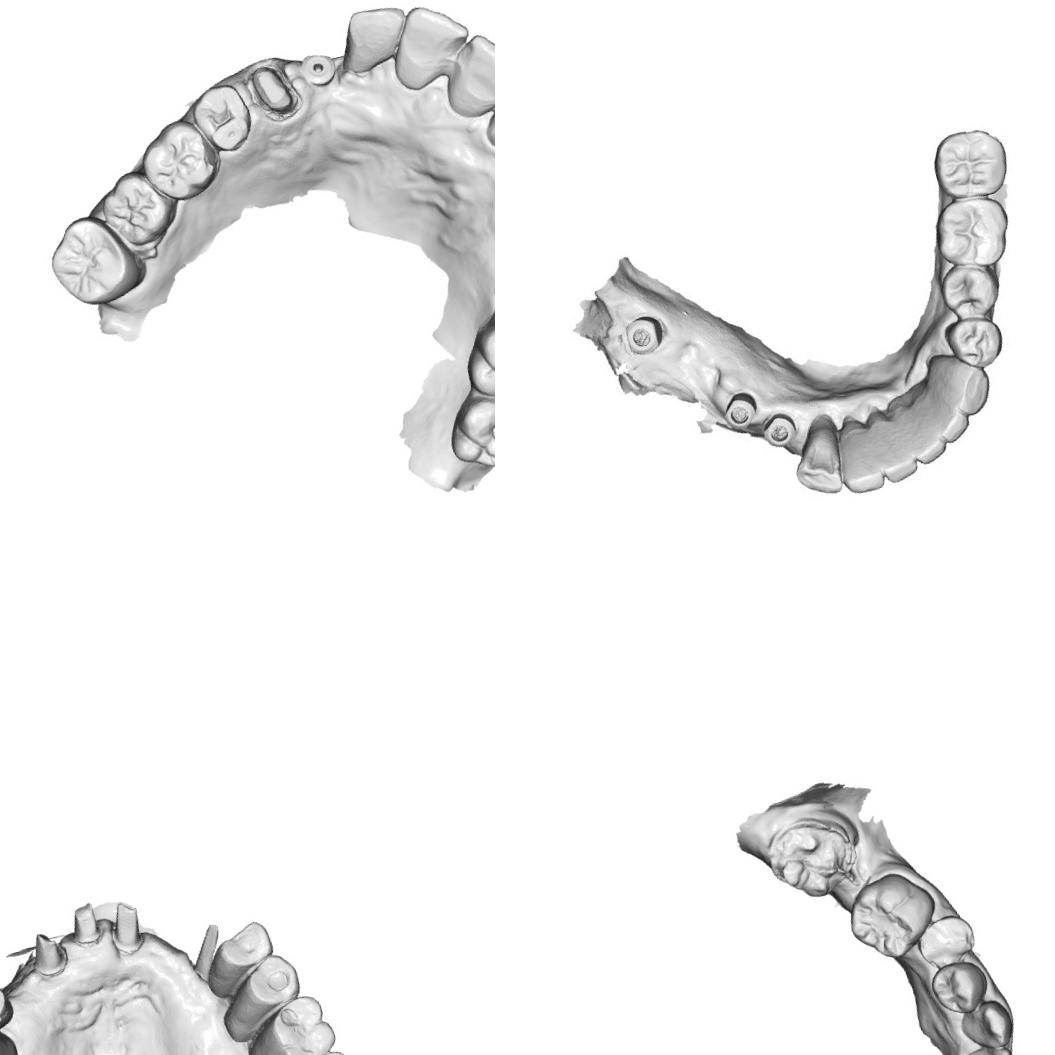canine: (783, 411, 852, 504), (925, 340, 997, 424), (954, 994, 1018, 1055)
crown: (241, 49, 300, 121), (182, 922, 231, 984), (102, 897, 148, 957), (22, 925, 72, 980), (62, 899, 107, 950)
implant: (614, 306, 667, 362), (712, 379, 760, 430), (298, 43, 342, 94), (756, 412, 800, 454)
incisor: (327, 0, 417, 80), (391, 0, 477, 75), (827, 408, 890, 498), (867, 400, 921, 486), (910, 375, 972, 448), (443, 22, 495, 104), (892, 391, 949, 465), (963, 1039, 1020, 1055)
molar: (38, 203, 148, 315), (838, 863, 946, 969), (758, 805, 866, 908), (131, 112, 225, 210), (92, 162, 184, 254), (925, 188, 1015, 276), (925, 116, 1015, 202), (233, 989, 341, 1055), (437, 379, 495, 481), (453, 304, 495, 415)
premolar: (209, 948, 311, 1046), (182, 74, 266, 164), (194, 917, 283, 1001), (911, 908, 982, 975), (924, 954, 993, 1022), (945, 306, 1011, 372), (938, 261, 1002, 322), (0, 963, 17, 1040)
